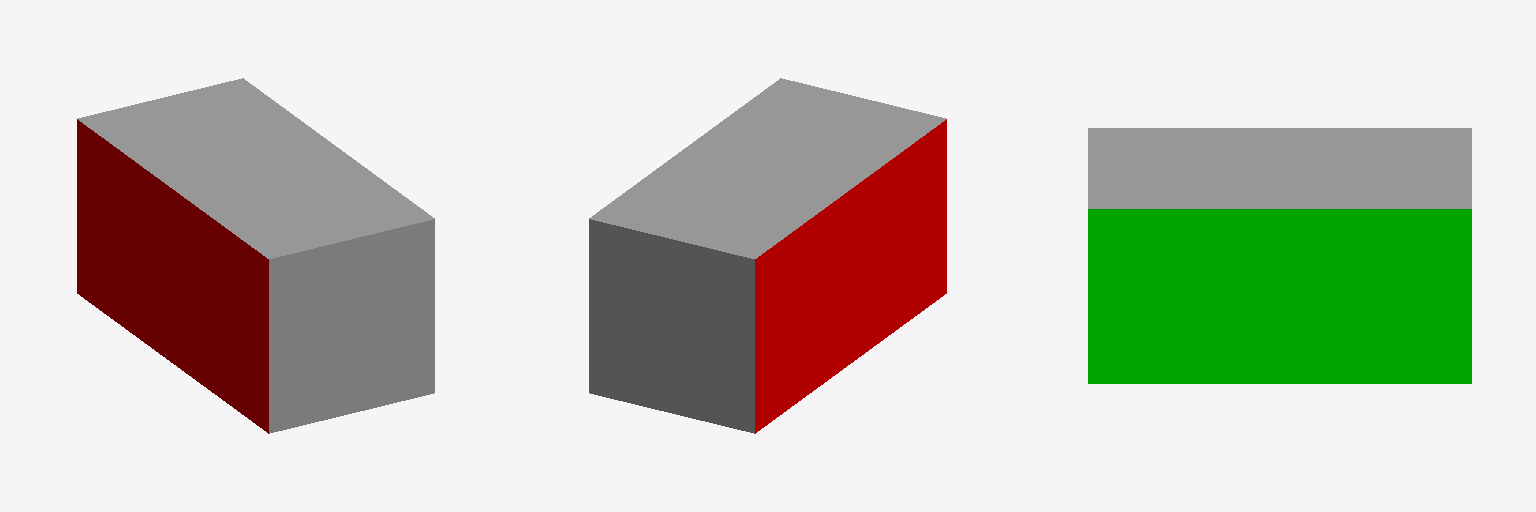
Rendered from room.obj.
3 views of the same model, side by side, from view 1: azimuth 30°, elevation 25°; view 2: azimuth 150°, elevation 25°; view 3: azimuth 270°, elevation 25° (orthographic).
Parts seen in each view (by area): view 1: room, wall; view 2: room, mirror; view 3: room.
Part boxes in pixels (x1,y1,x2,y2): room: (77, 78, 434, 433); wall: (269, 219, 434, 433); room: (589, 78, 946, 433); mirror: (589, 219, 754, 433); room: (1088, 128, 1471, 383).
Size of the model in its own units: 4 by 4 by 8.